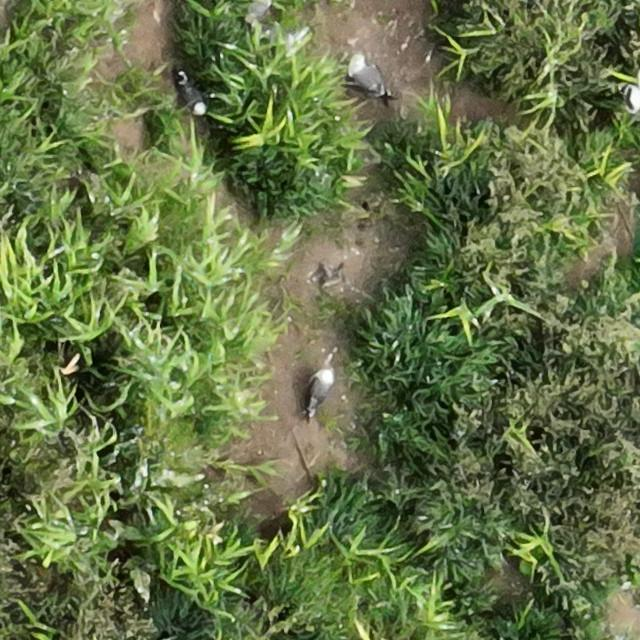umineko: (348, 52, 388, 97), (308, 366, 334, 415), (185, 83, 207, 113), (626, 83, 639, 113)
